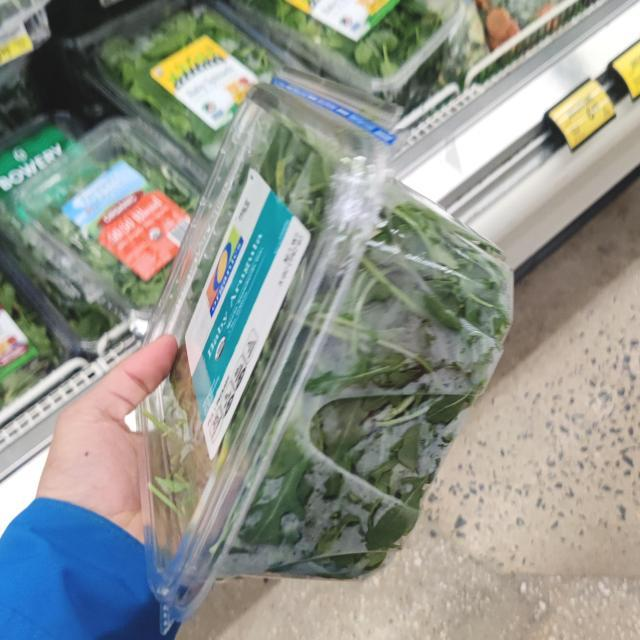Salad: (112, 77, 524, 590), (22, 114, 214, 318), (79, 0, 298, 159), (221, 0, 477, 115), (466, 0, 581, 39)
